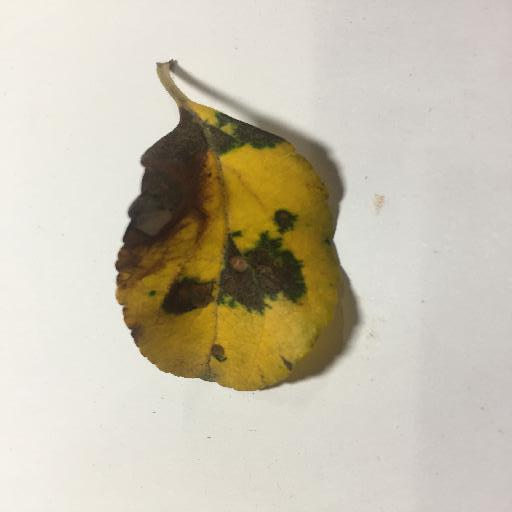Brown_Spot: (119, 109, 192, 270), (219, 248, 290, 297), (166, 273, 214, 311), (210, 343, 230, 364)
